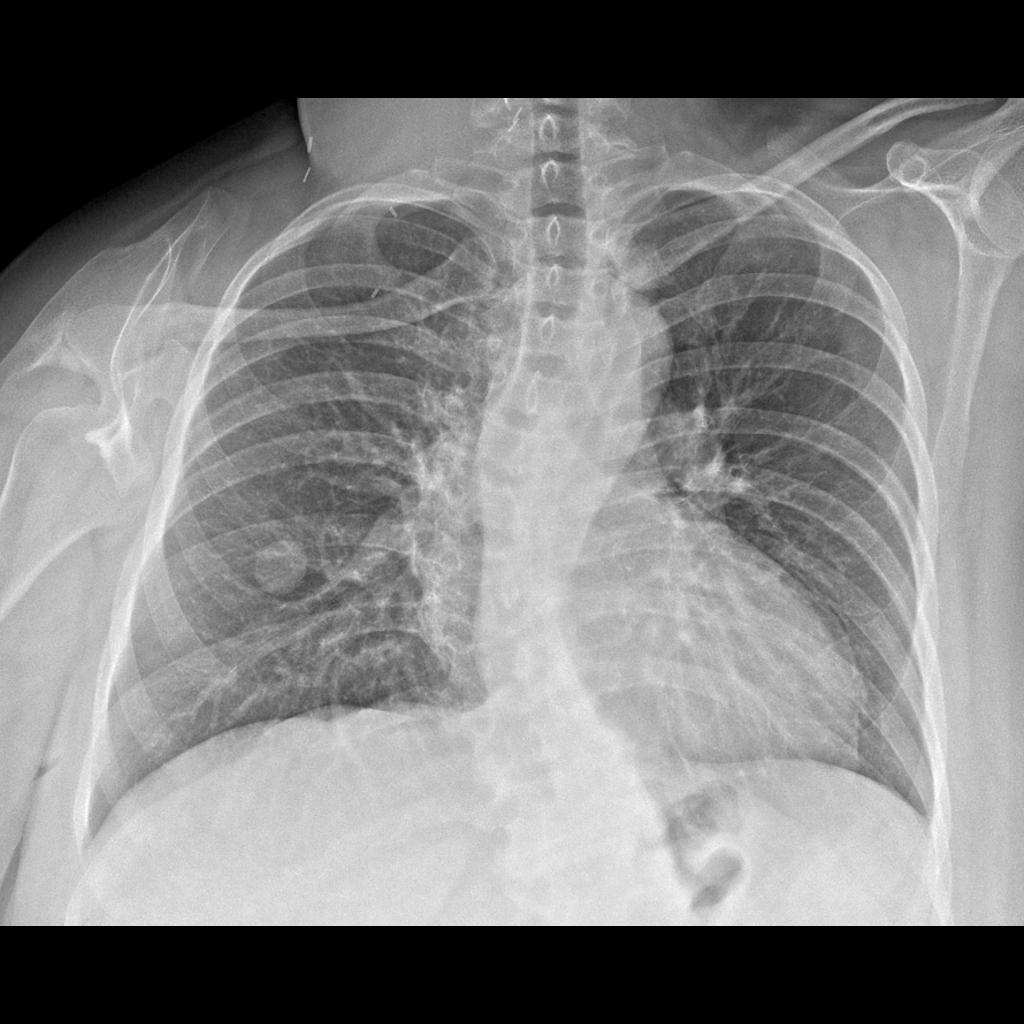Nodule: (253, 533, 313, 598)
